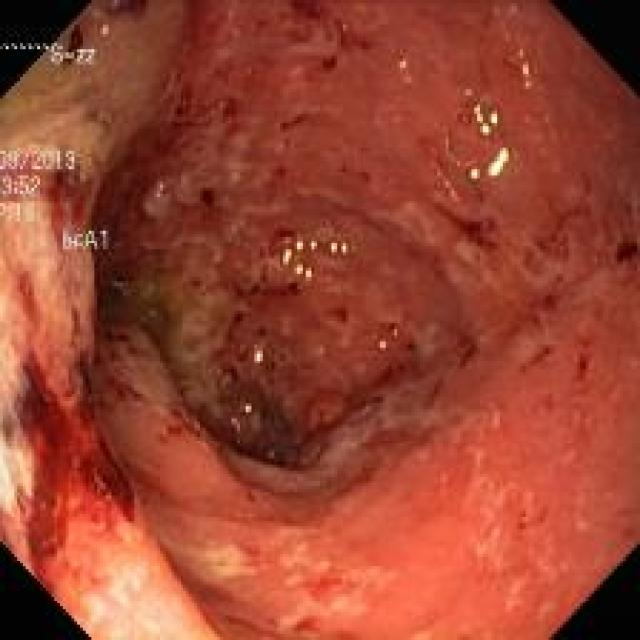ulcerative-colitis-grade-3: (0, 3, 640, 639)
